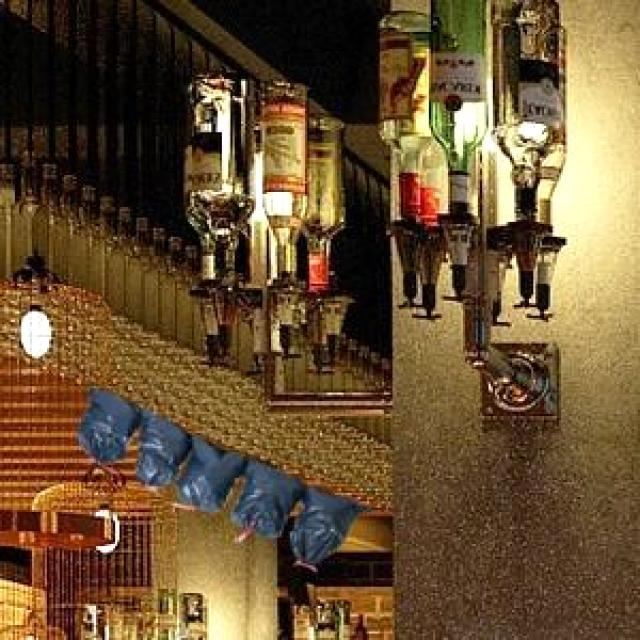Garbage_Bag: (74, 385, 368, 560)
